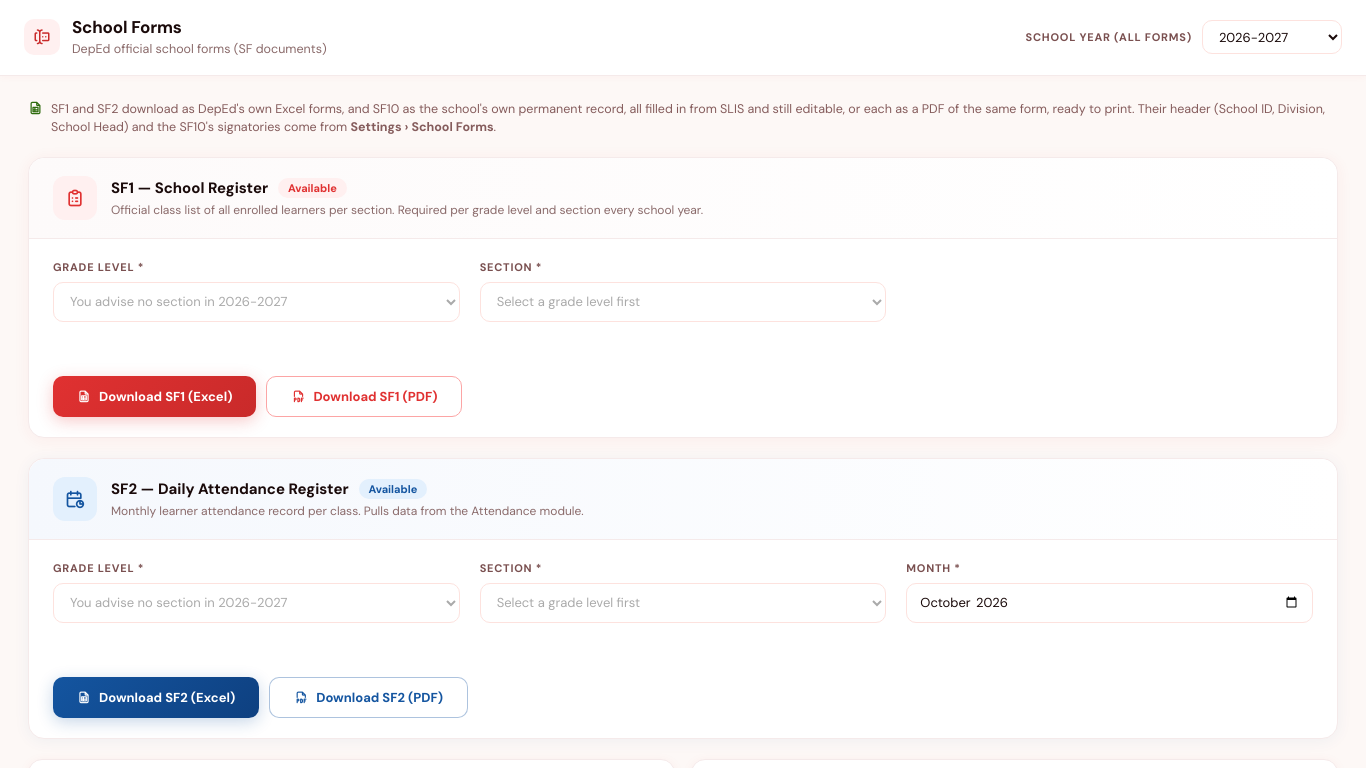
SchoolFormsPage for a teacher › says so when the teacher advises no section in the year
Expected: the dropdown named "SF1 grade level" is disabled, [53, 282, 460, 322]
Select "2025-2026" in the dropdown labelled "School Year (all forms)": (1272, 37) [1202, 20, 1342, 54]
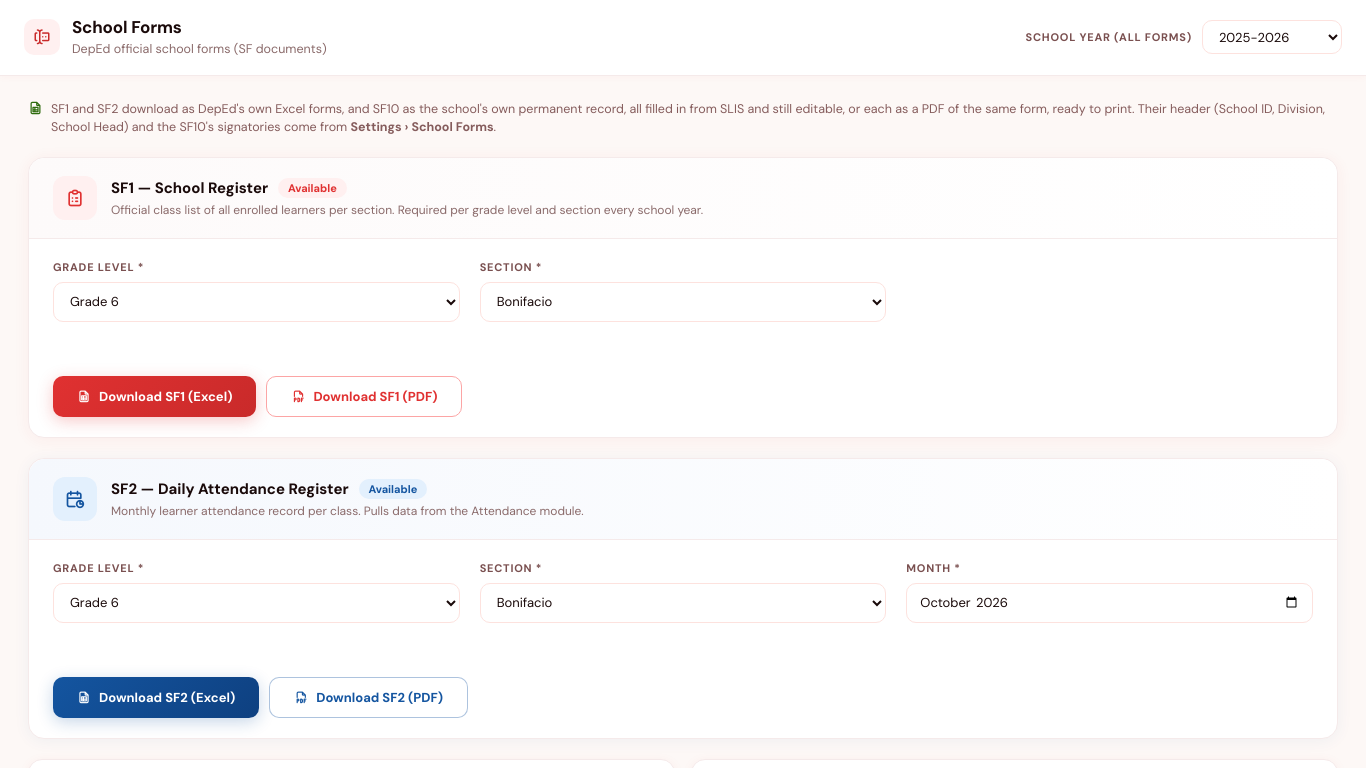
Result: the dropdown named "SF1 grade level" shows "Grade 6" at [53, 282, 460, 322]
Result: the dropdown named "SF1 section" shows "Bonifacio" at [480, 282, 886, 322]
